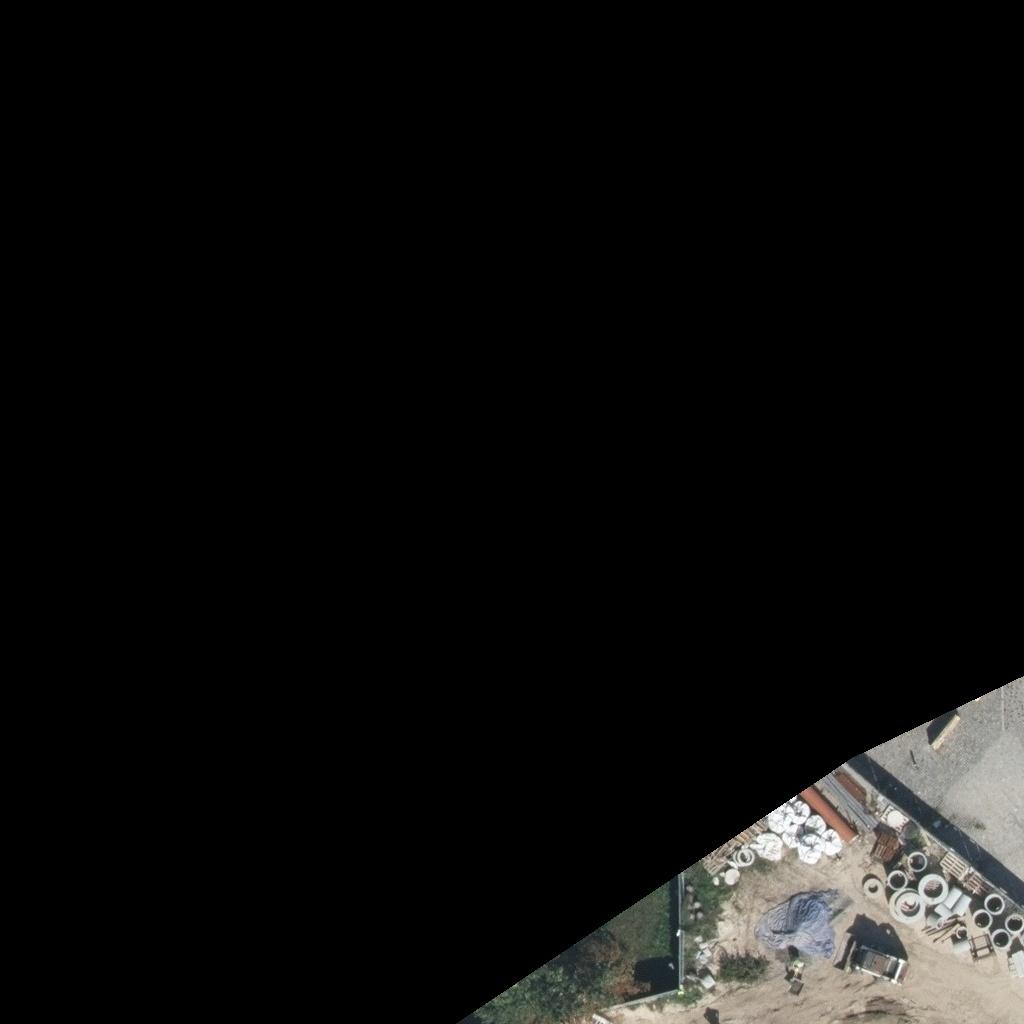spychacz: (834, 932, 909, 987)
